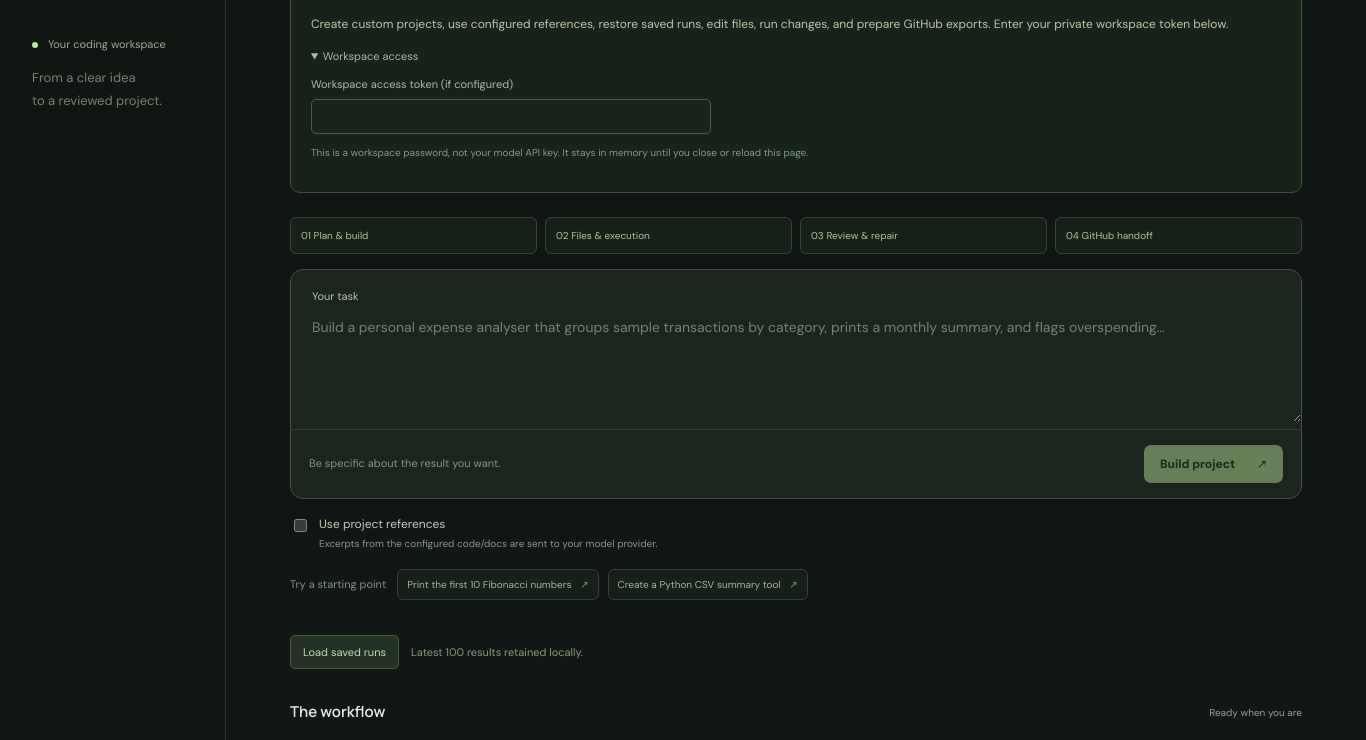
Test: adds and edits browser files, then exposes the GitHub handoff
The width and height of the screenshot is (1366, 740).
(page scrolled)
Type "Print hello" into the text box labelled "Your task" at (796,364), box x1=291 y1=306 x2=1301 y2=422
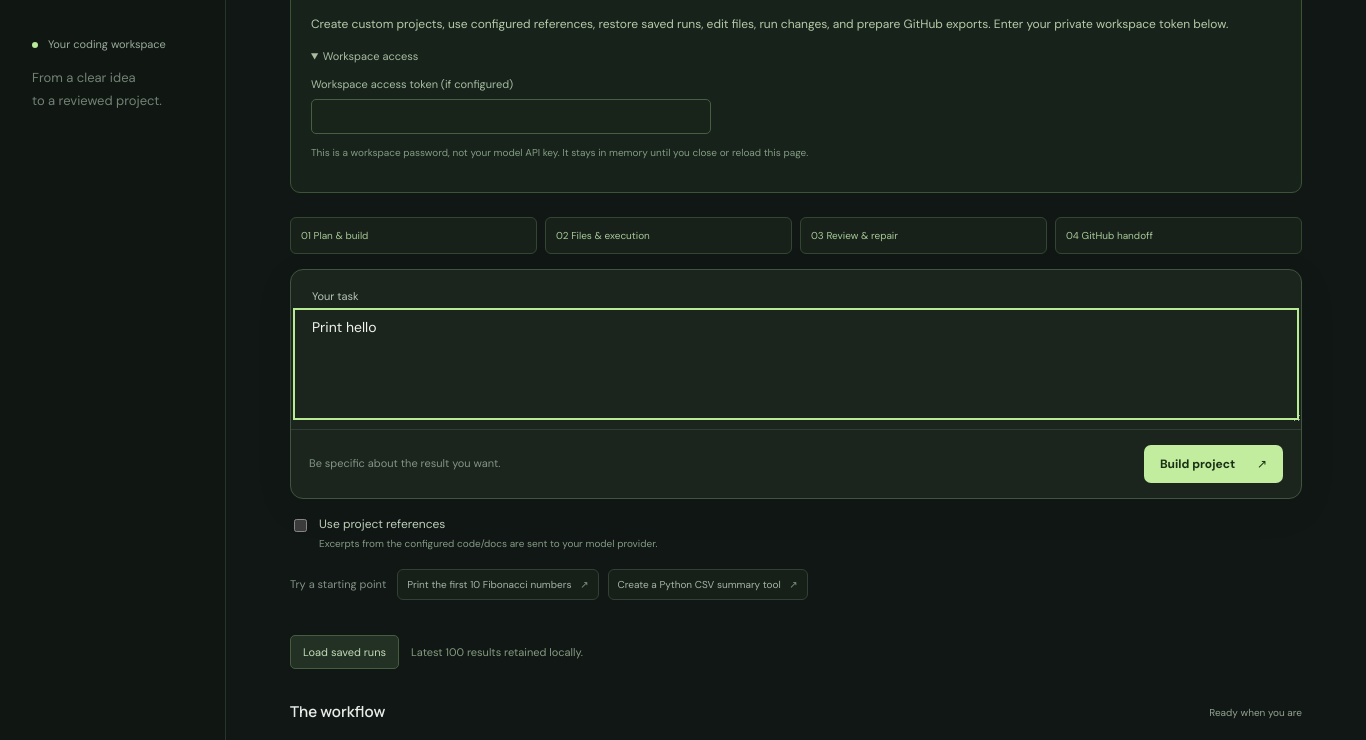
Click the button "Build project ↗" at (1214,464), box x1=1144 y1=444 x2=1283 y2=482
(page scrolled)
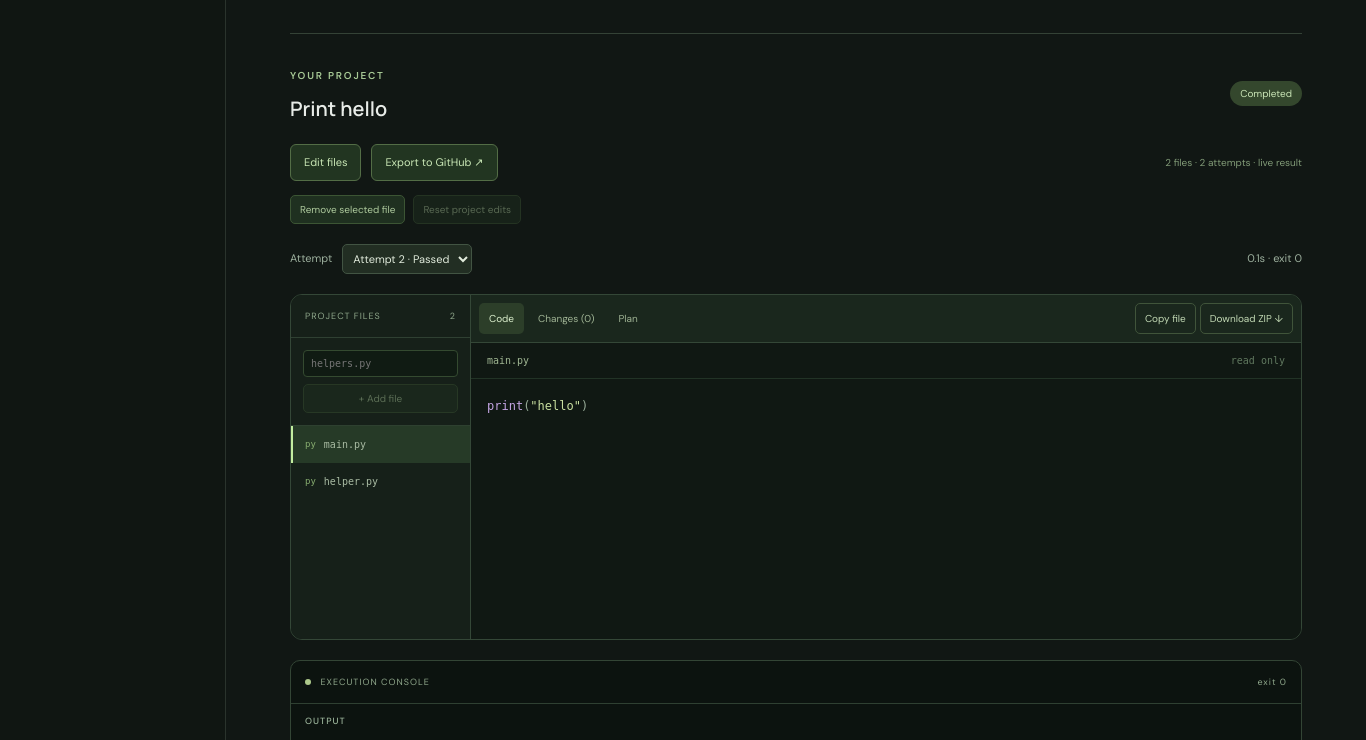
Type "utils.py" into the field named "New file path" at (380,363), box x1=303 y1=350 x2=458 y2=376
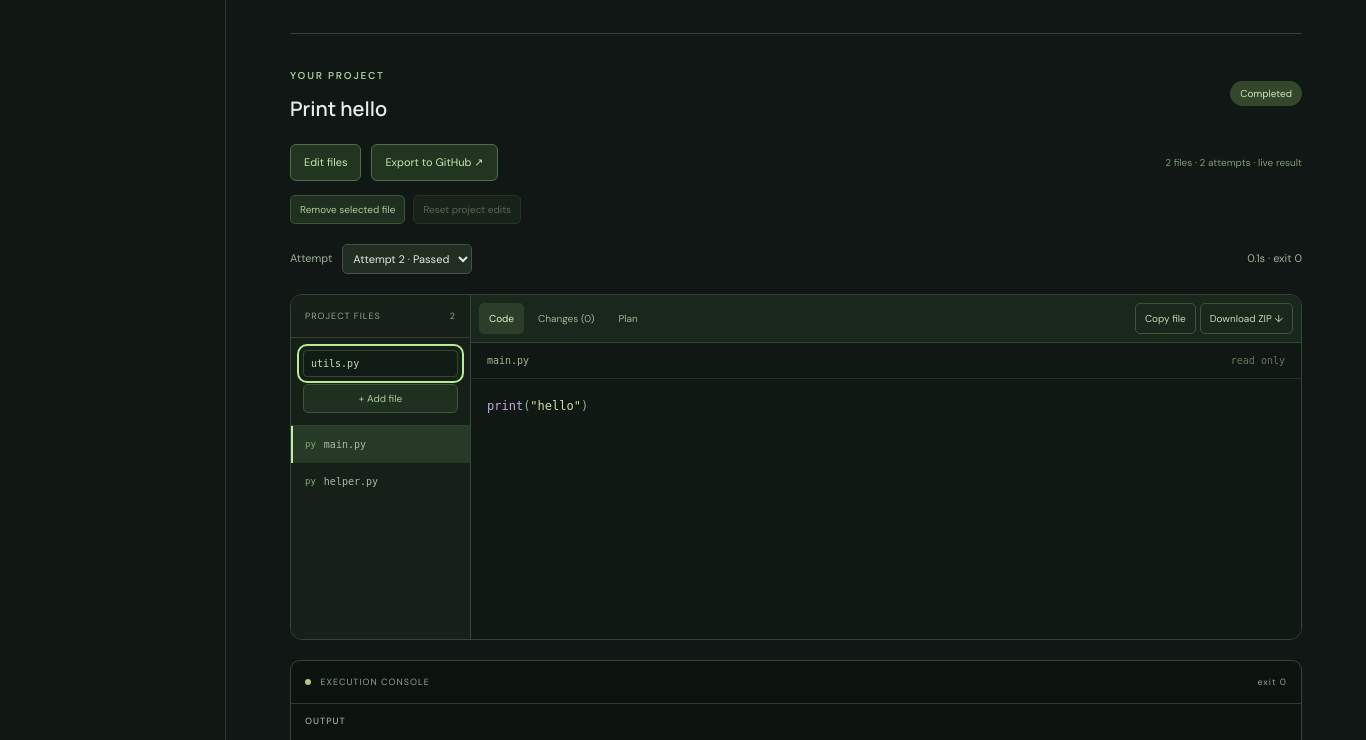
Click the button "+ Add file" at (380,398), box x1=303 y1=384 x2=458 y2=412
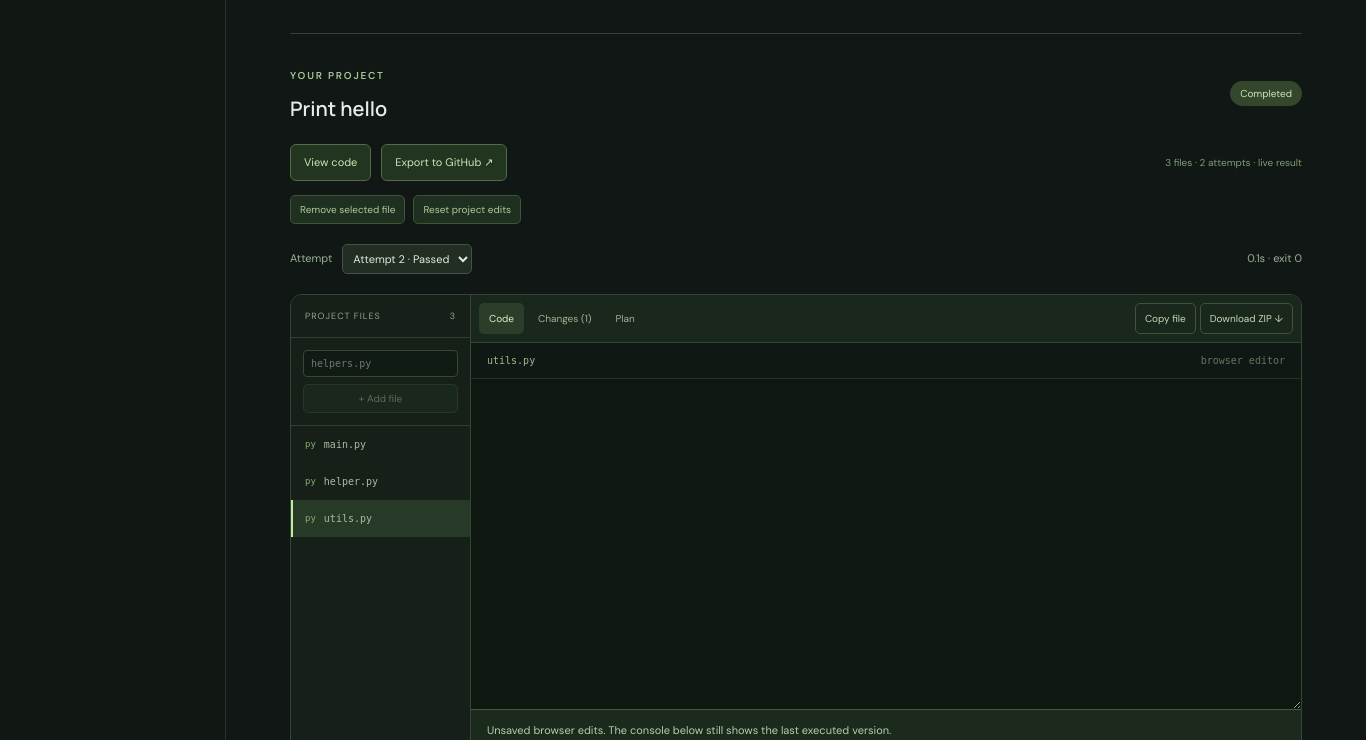
Type "answer = 7" into the text box named "Edit file contents" at (886,544), box x1=471 y1=378 x2=1301 y2=708
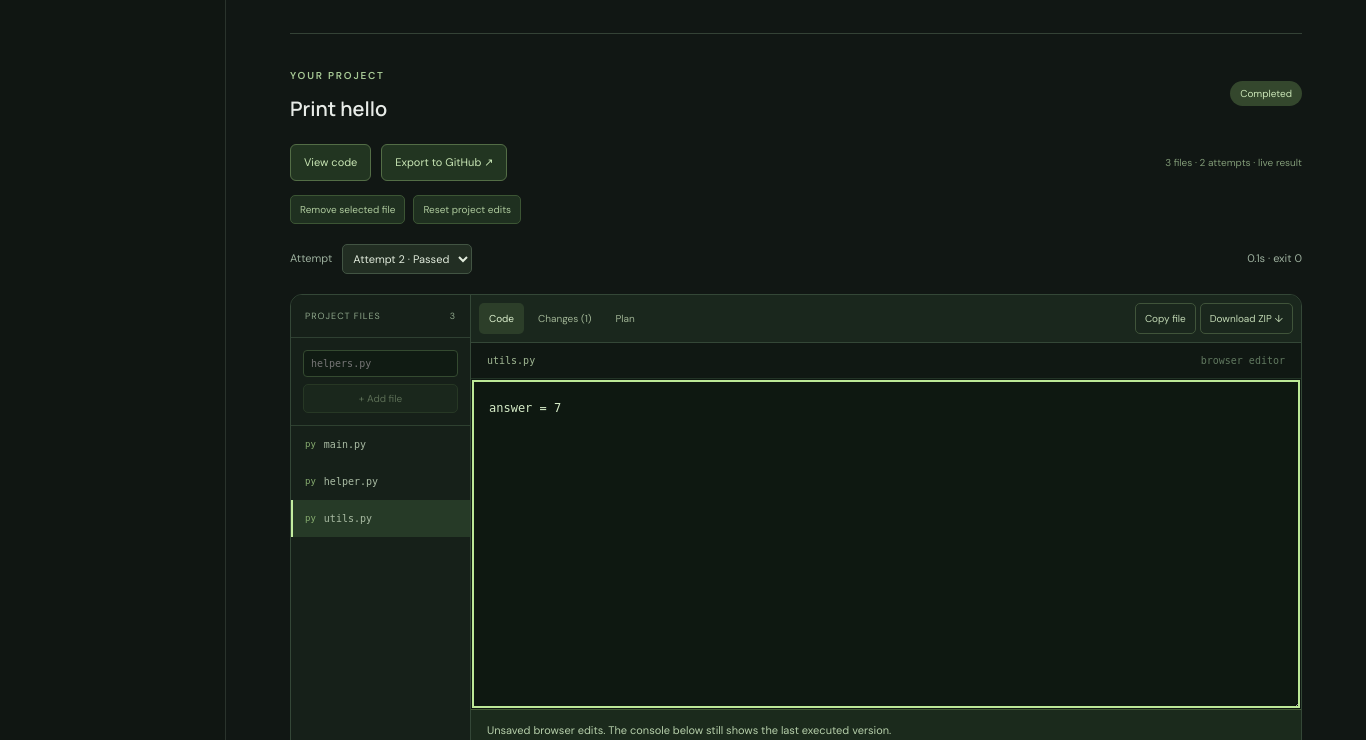
Expected: the text "console below still shows the last executed version" is shown, x1=487 y1=722 x2=891 y2=736
Click the button "Export to GitHub ↗" at (444,162), box x1=381 y1=144 x2=507 y2=180
(page scrolled)
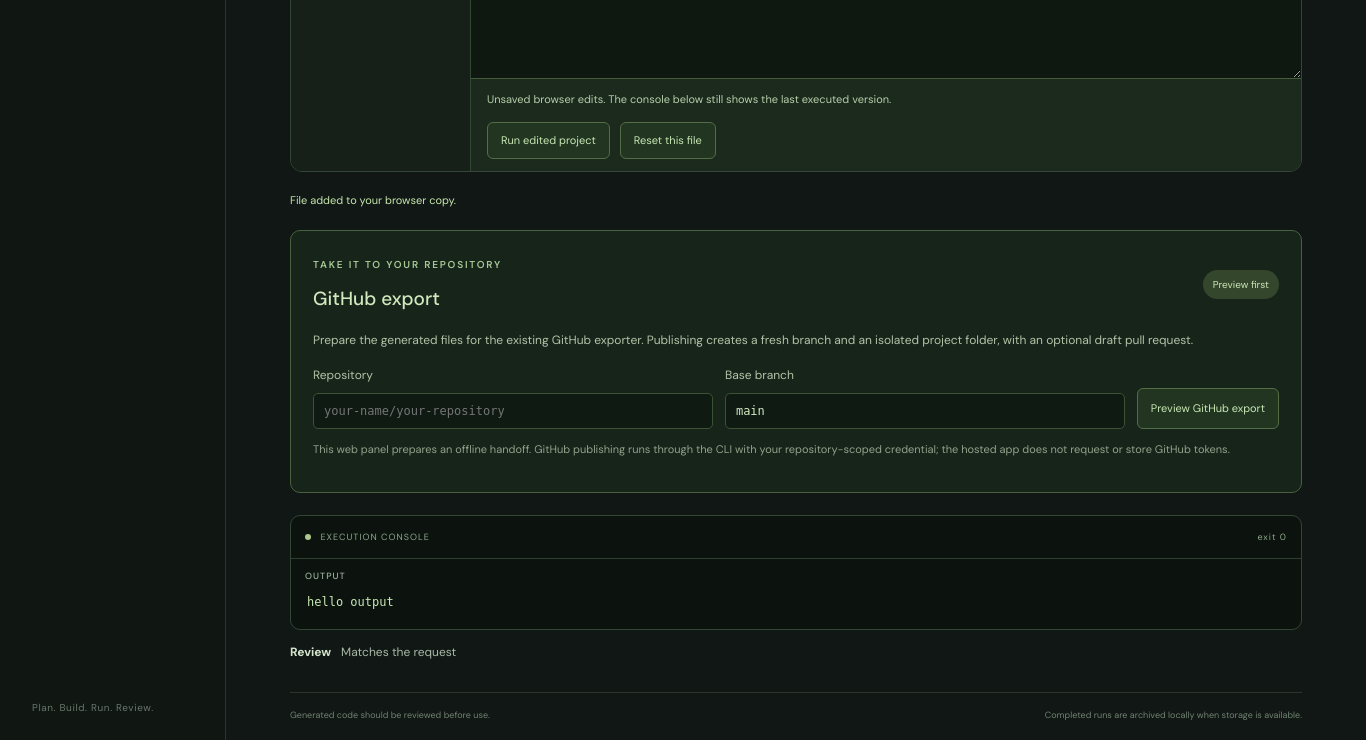
Expected: the element "GitHub export" is shown, x1=290 y1=230 x2=1302 y2=493
Expected: the field labelled "Repository" is shown, x1=313 y1=392 x2=713 y2=428
